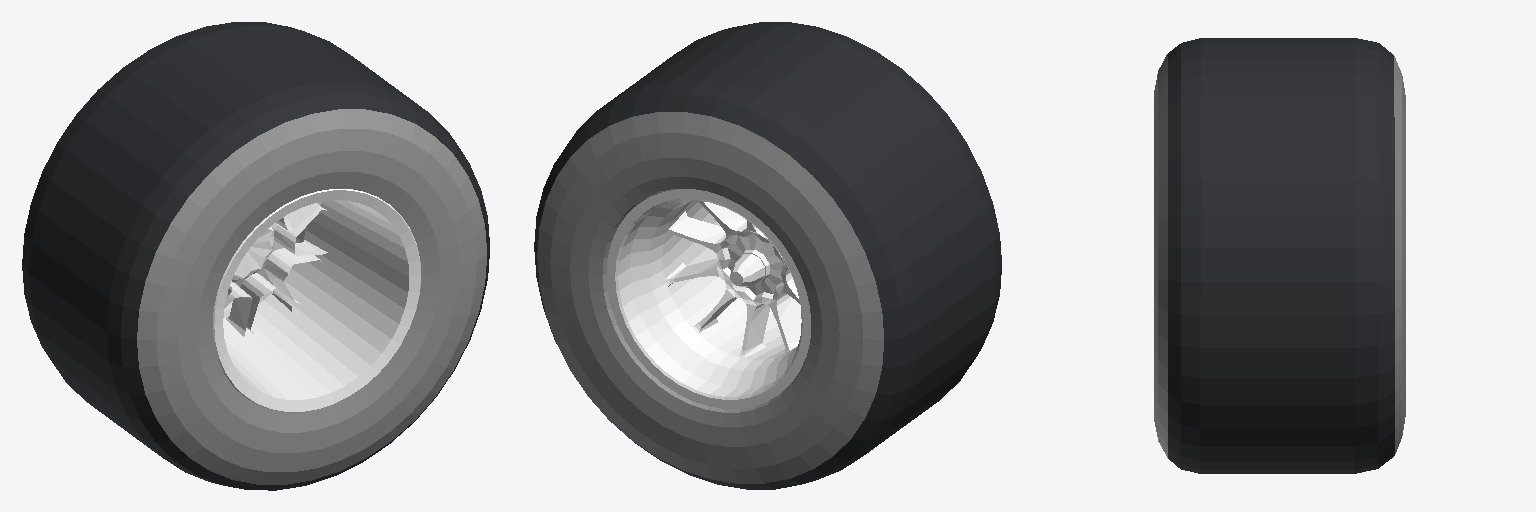
The picture shows the model from 3 angles: view 1: azimuth 30°, elevation 25°; view 2: azimuth 150°, elevation 25°; view 3: azimuth 270°, elevation 25°; orthographic projection.
Visible parts, largest first — view 1: object__52.003, object__51.003, object__21.003; view 2: object__52.003, object__51.003, object__21.003; view 3: object__52.003, object__51.003.
Boxes of the visible parts, x1=… form: object__52.003: x1=22, y1=22, x2=489, y2=490; object__51.003: x1=137, y1=109, x2=486, y2=484; object__21.003: x1=213, y1=189, x2=420, y2=412; object__52.003: x1=534, y1=22, x2=1001, y2=489; object__51.003: x1=537, y1=112, x2=883, y2=483; object__21.003: x1=606, y1=189, x2=810, y2=408; object__52.003: x1=1167, y1=38, x2=1394, y2=473; object__51.003: x1=1154, y1=55, x2=1405, y2=457.
Size of the model in its own units: 0.6438 by 0.6438 by 0.3728.
Materials: 3 (1 with a texture image).